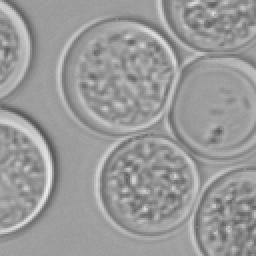picoshell: (58, 20, 176, 134), (94, 134, 198, 238), (170, 56, 254, 158), (0, 110, 52, 234), (190, 168, 254, 254), (156, 0, 254, 52)
